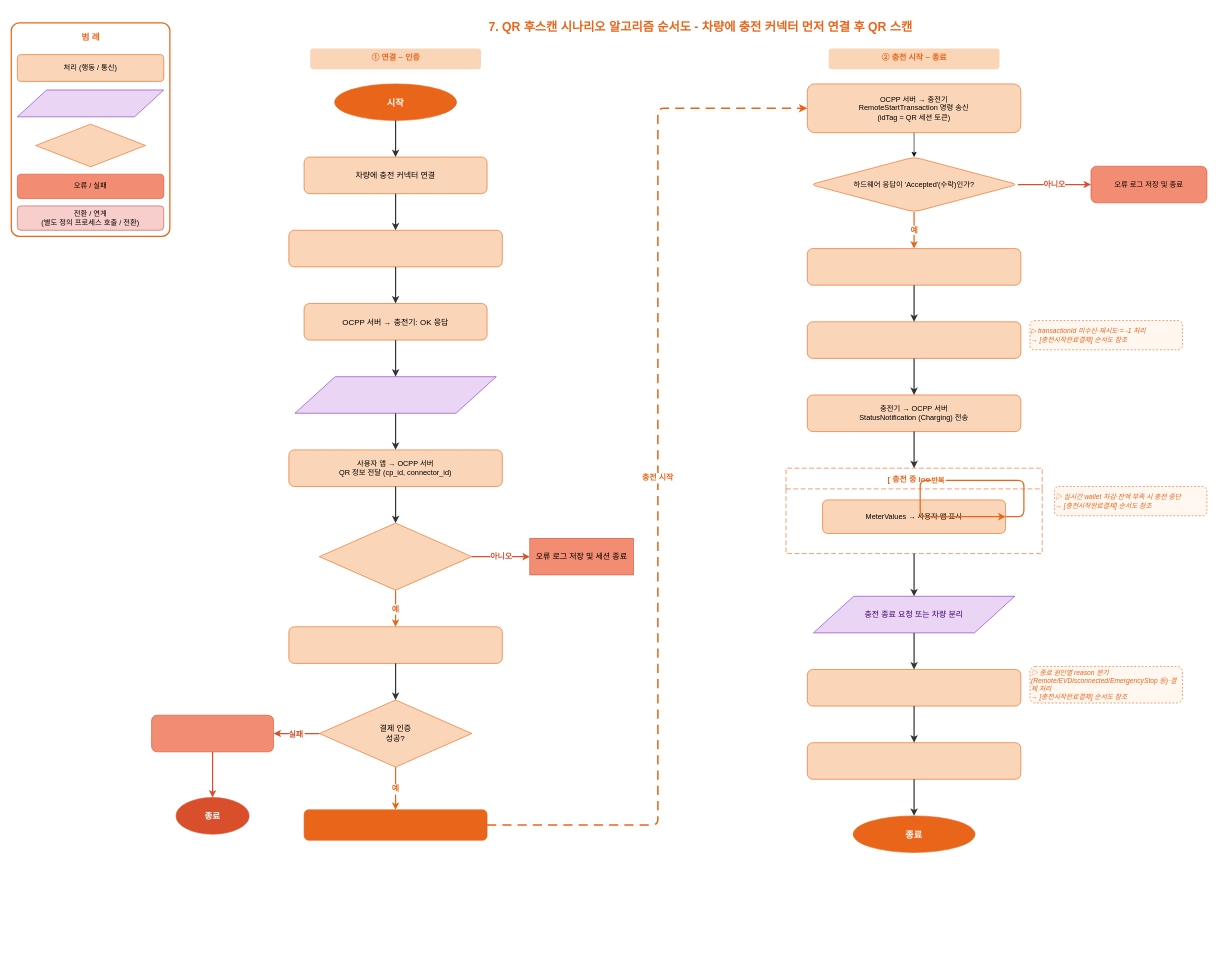
Some shapes in this 1218 by 961 pixel diagram are drawn without their labels. The centre of each missing label's shape, as x and y in pixels:
OCPP 서버 → 결제 서버 결제수단 확인 / 선승인 요청: [395,644]
RemoteStop → StopTransaction 최종 사용량 기준 결제 처리: [914,687]
StatusNotification (Available) 전송: [914,760]
→ 충전 시작 단계로 이동: [395,824]
사용자: 충전기 QR 코드 스캔: [395,394]
입출력: [90,103]
충전 불가 처리: [212,733]
충전기 → OCPP 서버 RemoteStartTransaction.conf (Accepted): [914,266]
충전기 → OCPP 서버 StartTransaction → transactionId 수신: [914,339]
충전기 → OCPP 서버 StatusNotification (Preparing) 전송: [395,248]
충전기 상태 = 정상인가? (Preparing?): [395,556]
판단 / 분기: [90,145]
